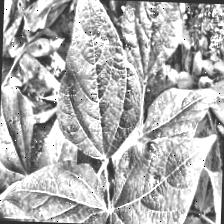Bean Rust: (51, 0, 148, 160), (108, 131, 215, 224), (5, 158, 108, 224)
